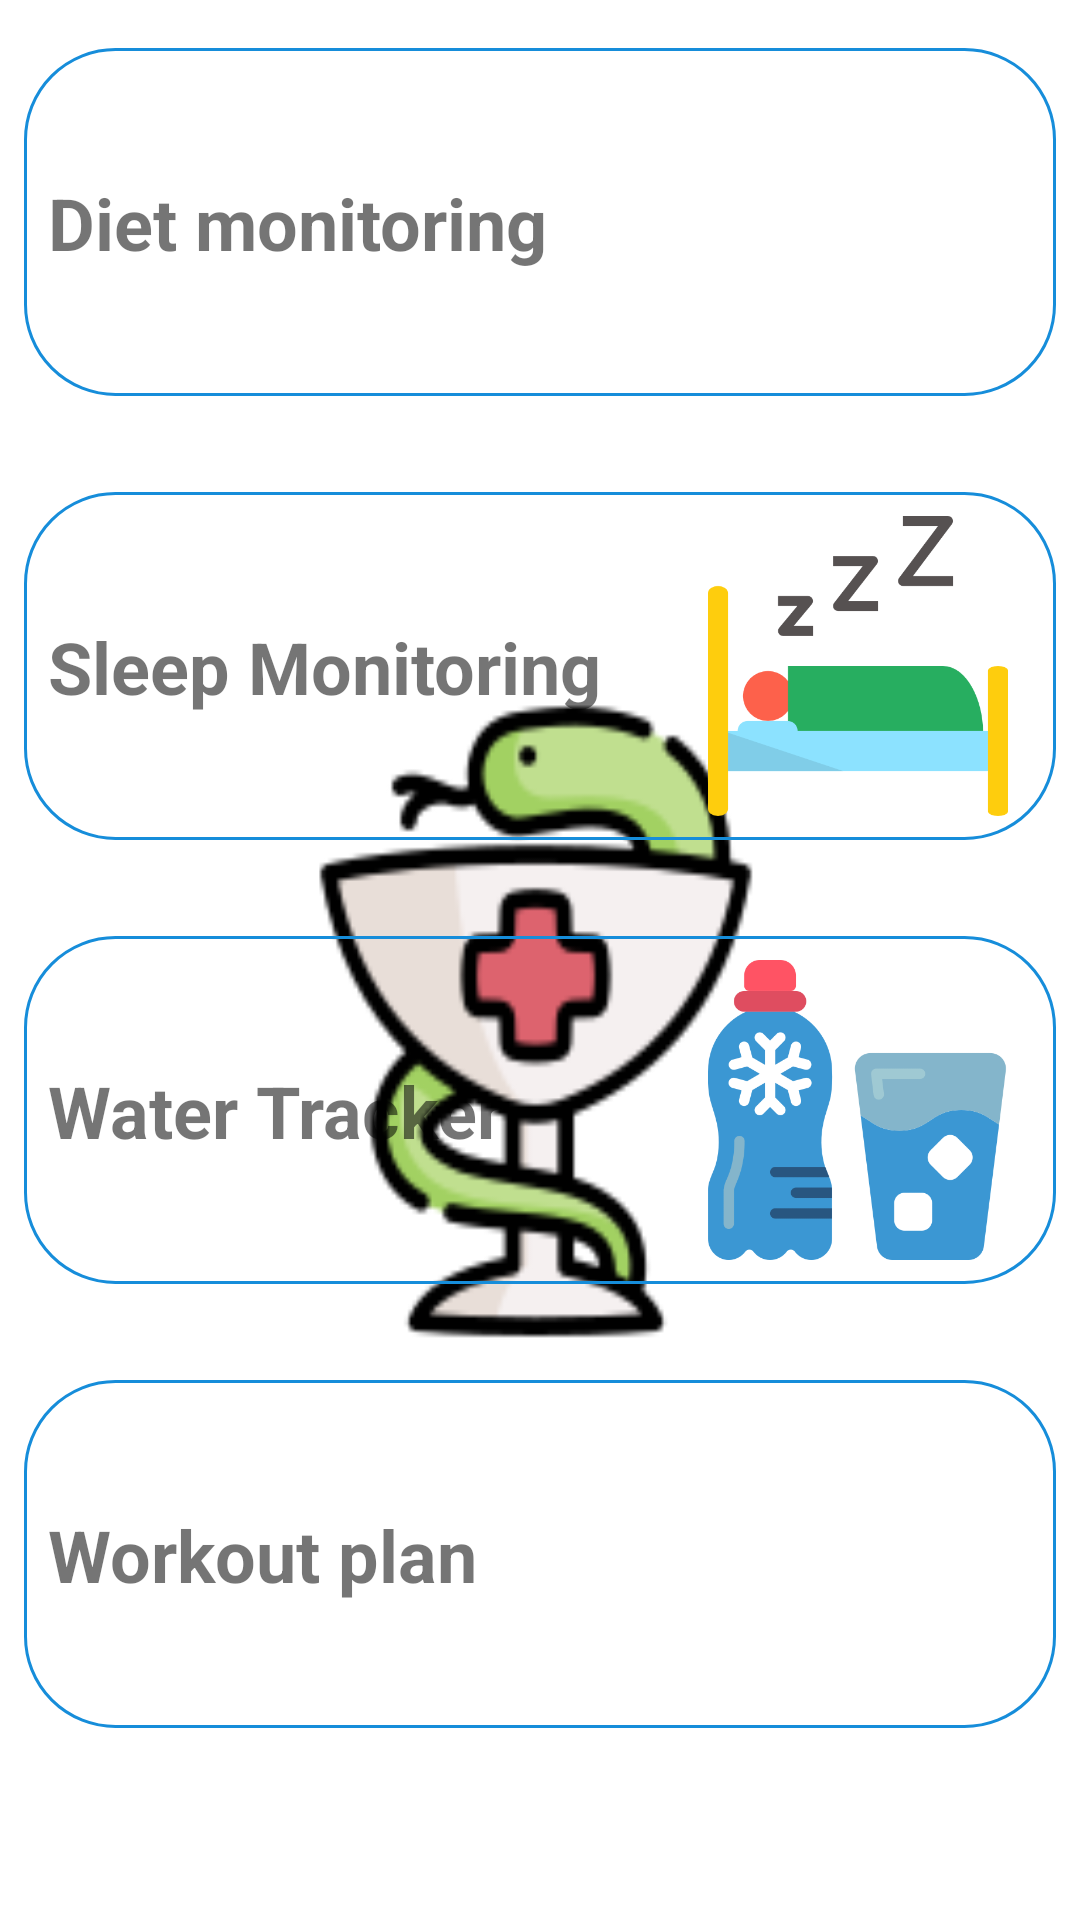

Point at icon controls on the screen. Image size 1080 x 1920, points as point (x, y).
water tracker home: point (857, 1110)
